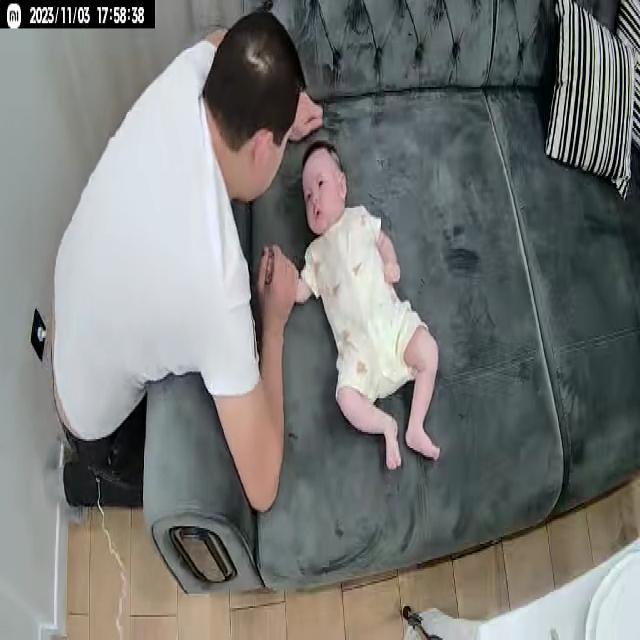baby: (260, 140, 446, 478)
